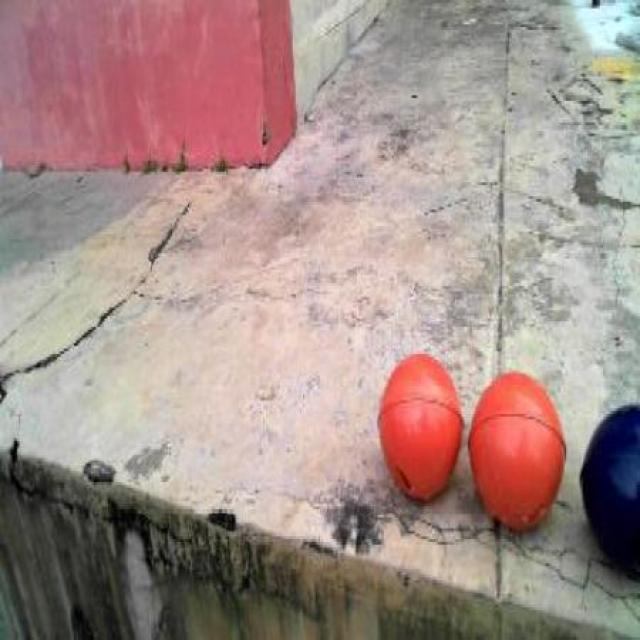buoy: (465, 350, 572, 546), (368, 344, 468, 514), (571, 372, 638, 598)
